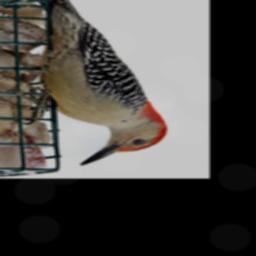Woodpecker: (21, 0, 167, 168)
